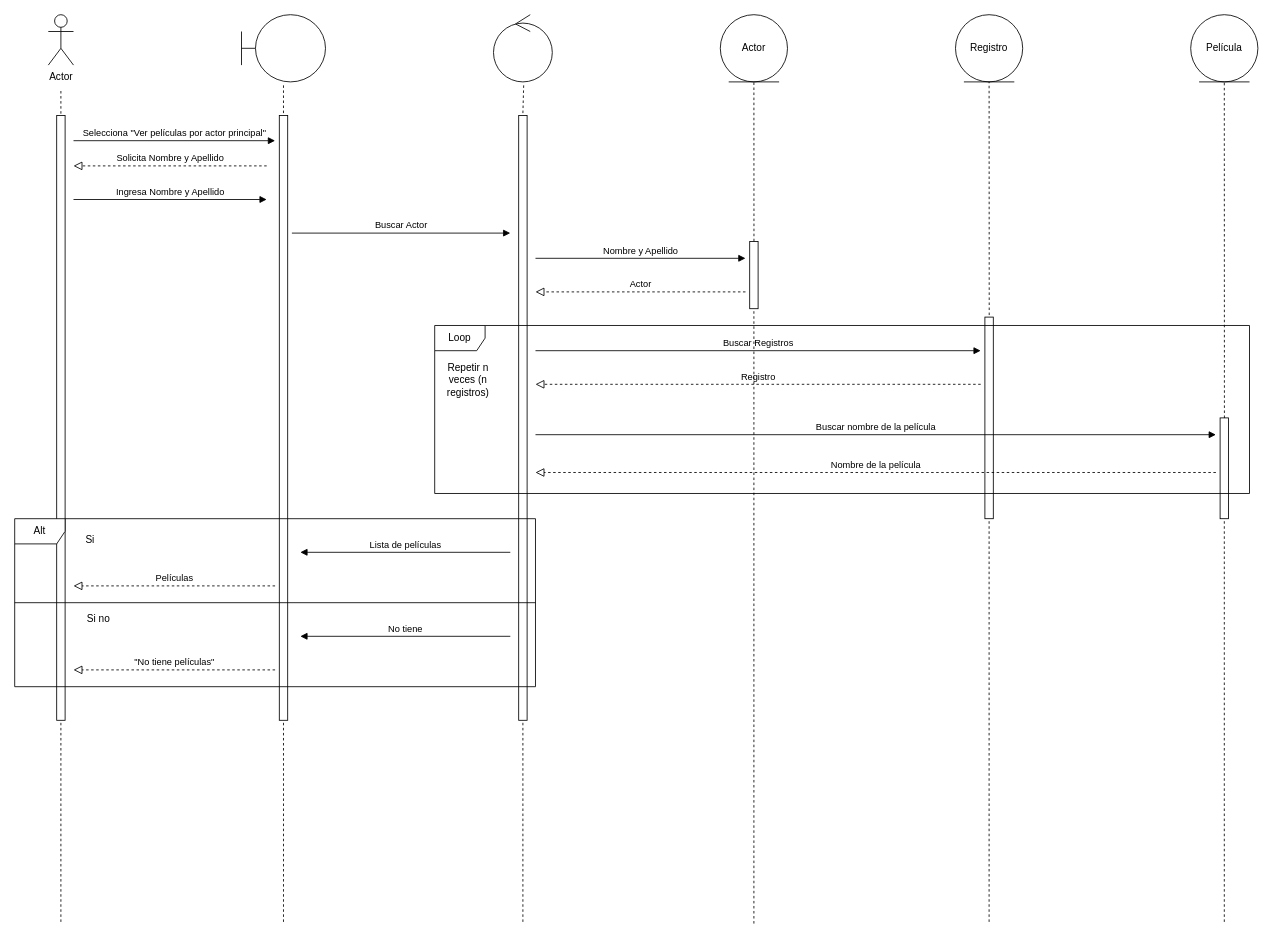
This 1273x939 diagram has some shape labels left out. The shapes that lost their labels are listed below. From the top down, each one's centre as x and y in pixels, then its label:
[283,48]: Interfaz
[522,48]: Control
